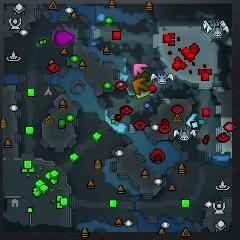p3: (55, 30, 75, 45)
x1: (133, 63, 148, 76)
x2: (136, 88, 151, 100)
x3: (186, 114, 205, 130)
x4: (136, 71, 152, 86)
x5: (132, 78, 149, 93)
